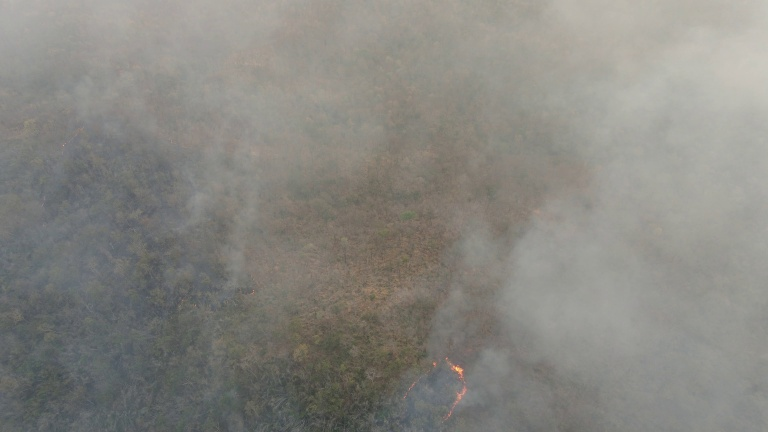fire: (396, 349, 477, 425)
smoke: (433, 3, 768, 432), (3, 1, 424, 196)
